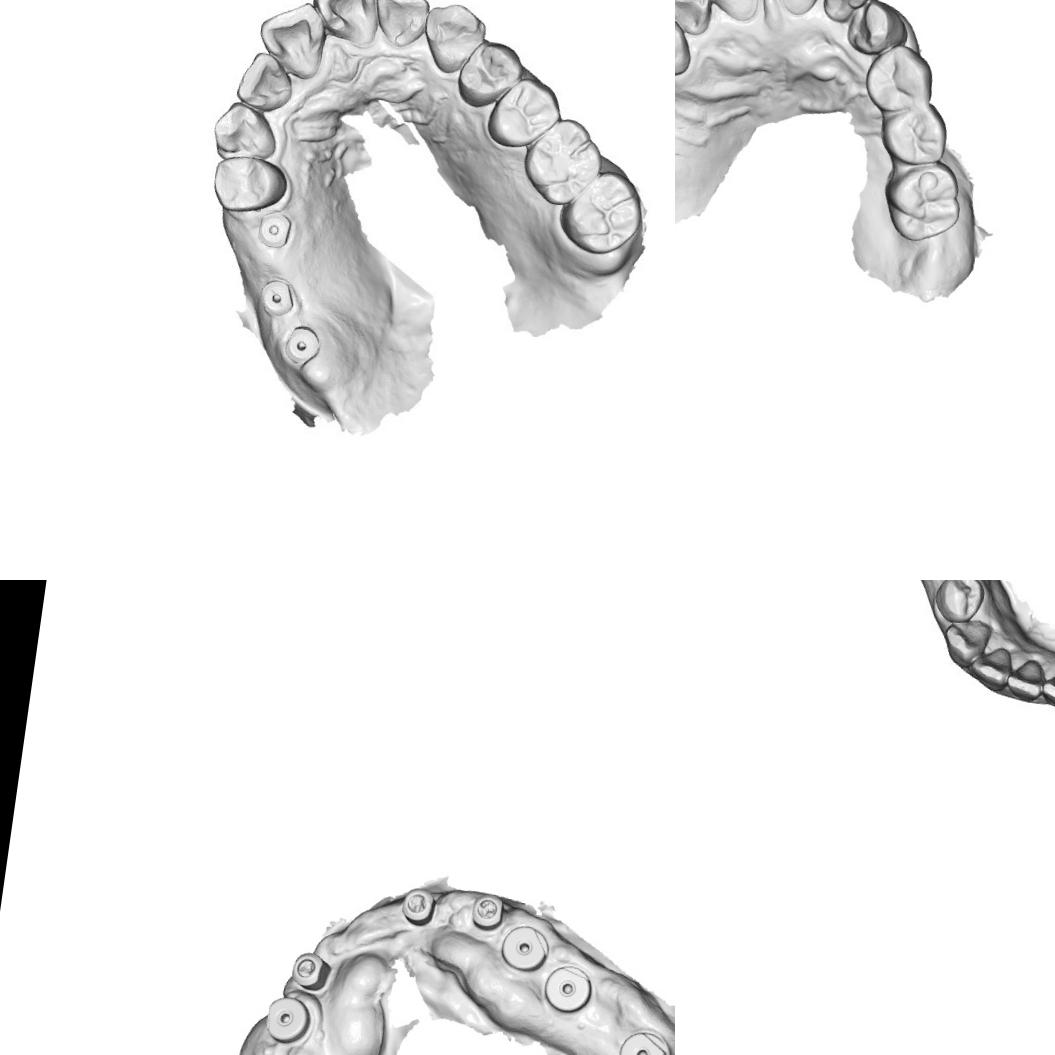canine: (206, 98, 285, 166), (420, 0, 487, 77), (842, 0, 912, 60), (939, 618, 996, 668), (675, 14, 697, 80)
implant: (540, 961, 596, 1016), (261, 991, 315, 1048), (498, 922, 554, 976), (282, 322, 325, 373), (287, 947, 333, 994), (396, 884, 440, 928), (466, 892, 510, 935), (612, 1026, 675, 1055), (258, 208, 296, 250)
implant_minus: (253, 274, 305, 324)
incisor: (252, 0, 330, 80), (236, 50, 299, 118), (310, 0, 379, 39), (377, 0, 428, 48), (698, 0, 768, 25), (972, 643, 1014, 684), (1009, 655, 1048, 695), (675, 0, 716, 38), (818, 0, 874, 26), (755, 0, 829, 19), (1041, 669, 1055, 705)
molar: (876, 154, 968, 247), (522, 114, 604, 211), (560, 169, 645, 257), (876, 96, 951, 170)
premolar: (860, 40, 939, 119), (210, 154, 290, 218), (494, 80, 556, 146), (462, 42, 522, 100), (933, 580, 984, 620)
